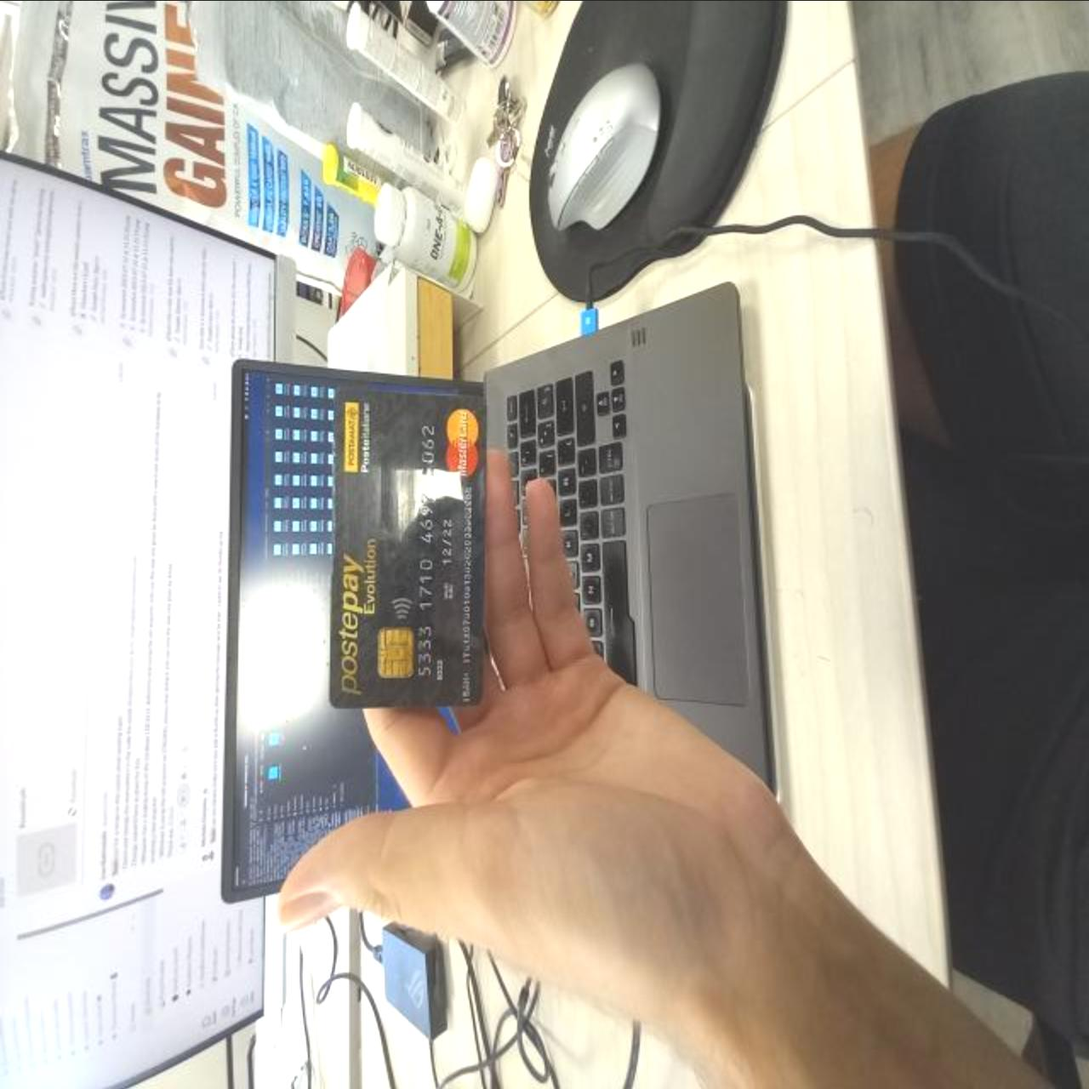credit_card: (316, 374, 490, 704)
